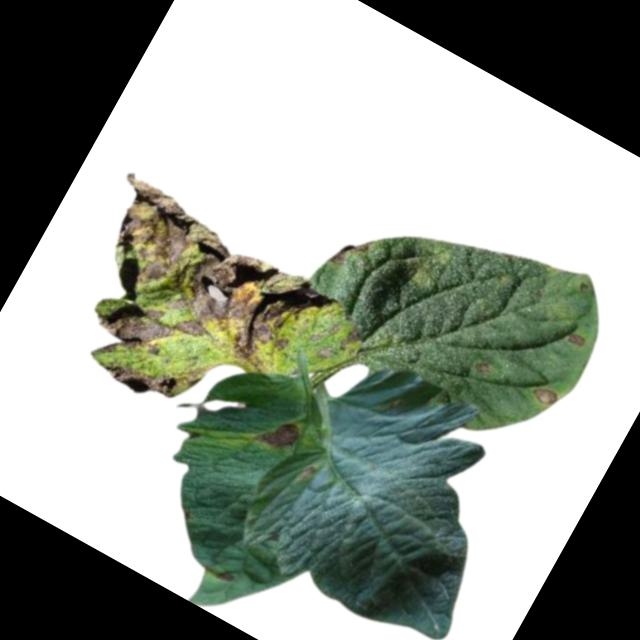Early_blight: (56, 169, 336, 416), (97, 342, 190, 417), (328, 228, 374, 277), (259, 413, 305, 457), (529, 380, 564, 410), (337, 325, 367, 356), (564, 328, 590, 351), (215, 565, 236, 586), (300, 461, 319, 483)
